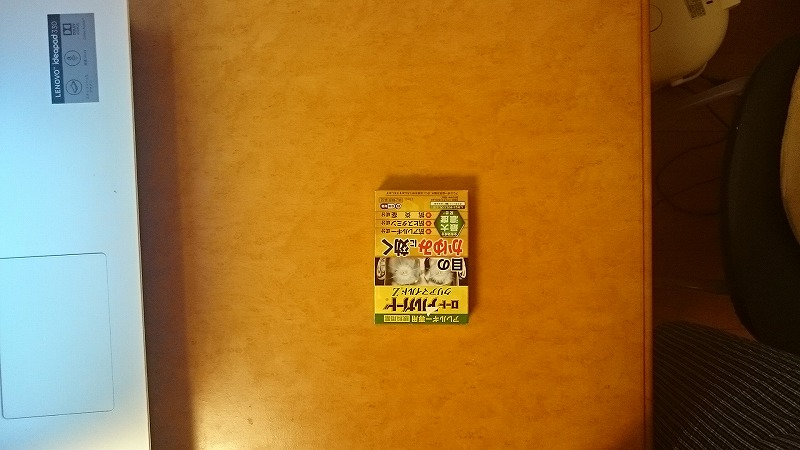C: (370, 185, 476, 334)
